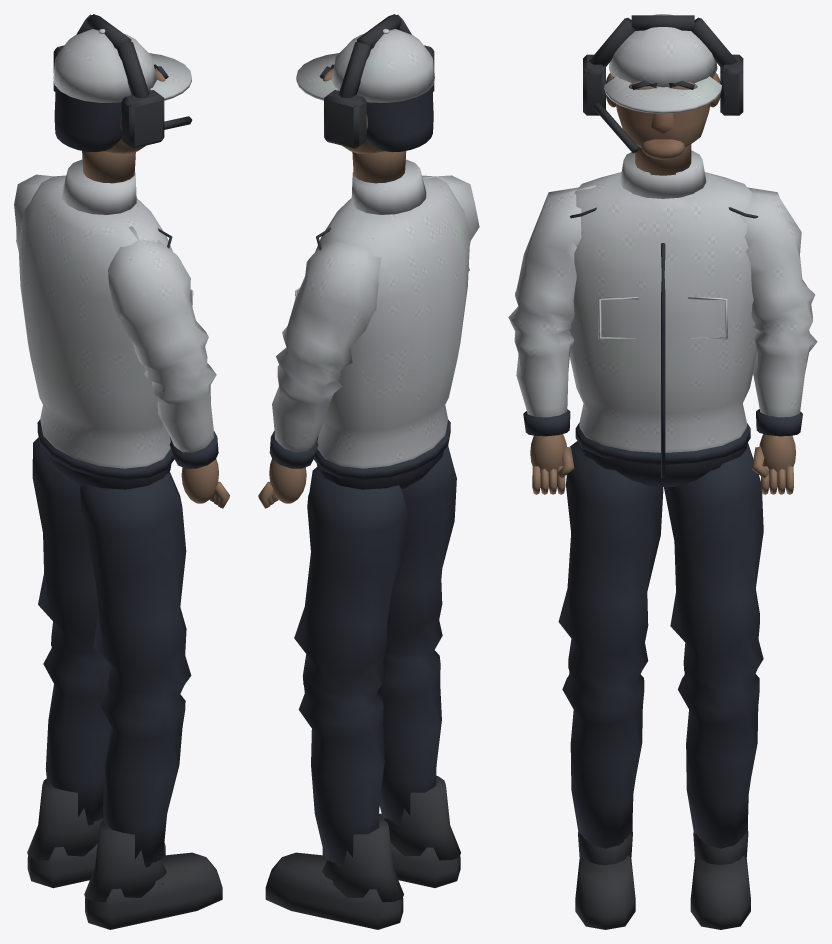
The model's file is crew-engineer-standing_high.glb.
3 views of the same model, side by side, from view 1: azimuth 30°, elevation 25°; view 2: azimuth 150°, elevation 25°; view 3: azimuth 270°, elevation 25° (orthographic).
Visible parts, largest first — view 1: dark-fabric, clothing, rubber, skin; view 2: dark-fabric, clothing, rubber, skin; view 3: clothing, dark-fabric, rubber, skin.
Boxes of the visible parts, x1,y1,x2,y2 form: dark-fabric: (32,64,218,884); clothing: (14,29,216,468); rubber: (27,14,222,929); skin: (82,68,229,508); dark-fabric: (269,64,456,884); clothing: (272,28,479,468); rubber: (265,14,460,929); skin: (258,68,406,508); clothing: (508,14,817,452); dark-fabric: (523,77,802,862); rubber: (575,15,750,929); skin: (530,73,795,494).
Size of the model in its own units: 0.3244 by 1.76 by 0.563.
Materials: 5 (3 with a texture image).
